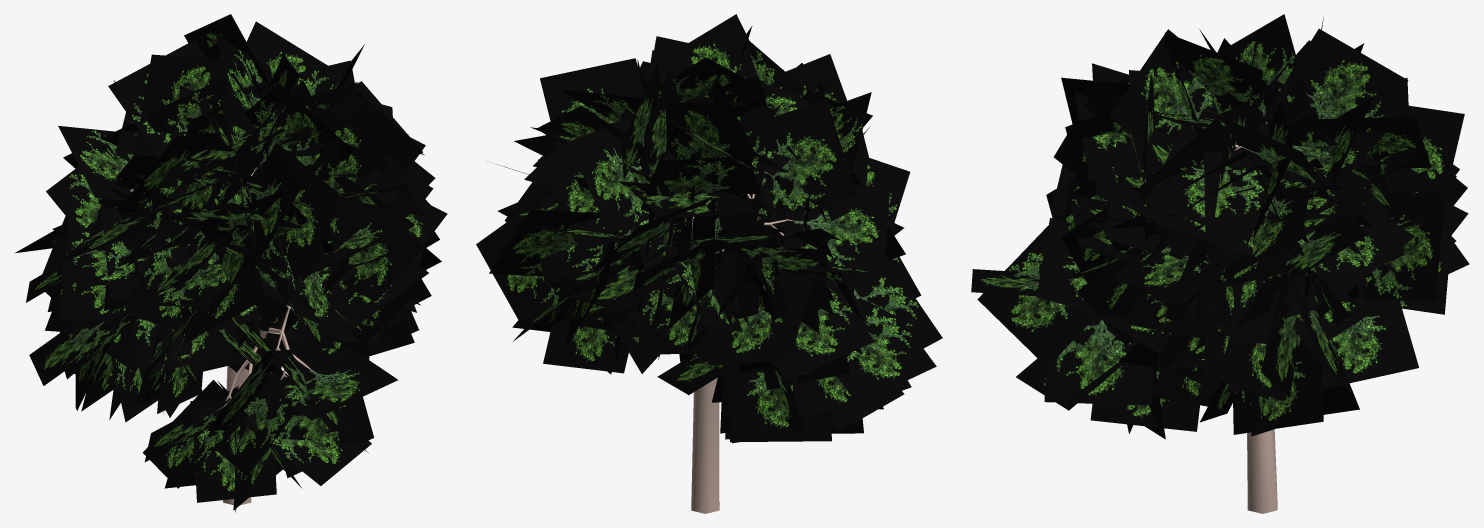
The model's file is tree2.glb.
3 views of the same model, side by side, from view 1: azimuth 30°, elevation 25°; view 2: azimuth 150°, elevation 25°; view 3: azimuth 270°, elevation 25° (orthographic). The views are drawn at different scales.
Bounding box in the file's own units: 8.96 × 9.52 × 8.8.
Materials: 2 (1 with a texture image).
